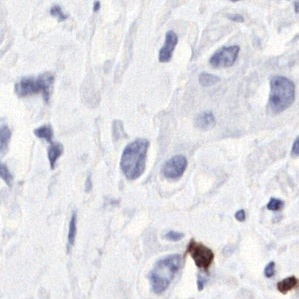Lymphocyte: (187, 240, 216, 270)
